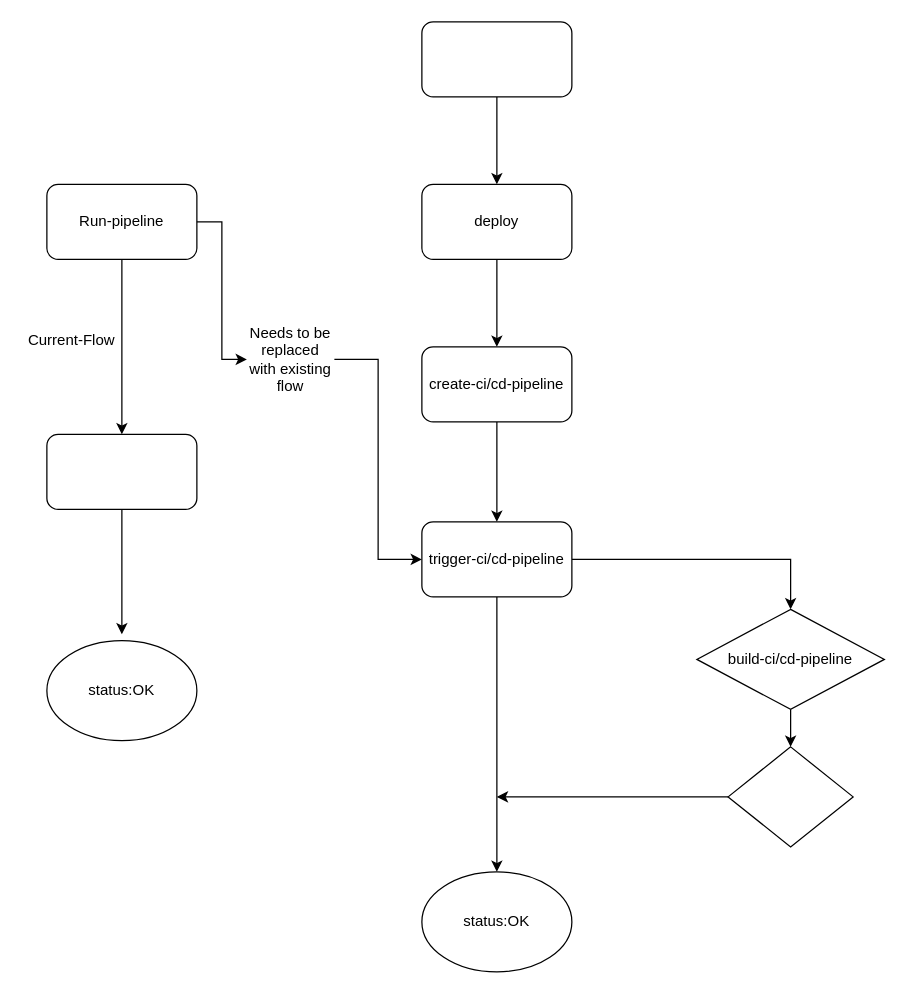
This 906x994 diagram has some shape labels left out. Here are the shapes that lost their labels. From the top down, the centre of each, then its label:
the point at 496,59: create-streamlit
the point at 121,471: only trigger-ci/cd-pipeline
the point at 790,796: update-status
